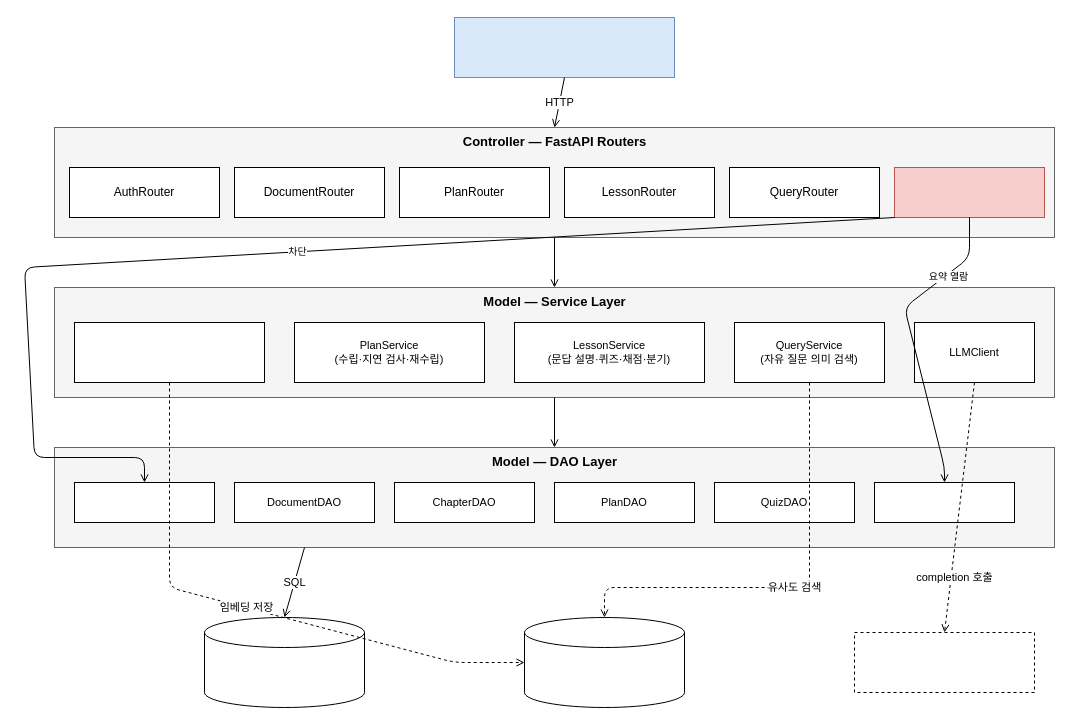
This 1072x725 diagram has some shape labels left out. The shapes that lost their labels are listed below. From the top down, each one's centre as x and y in pixels, then its label:
At point 564,47: "웹 클라이언트 (View)".
At point 969,192: "AdminRouter".
At point 169,352: "DocumentService (업로드·챕터 분할·임베딩)".
At point 144,502: "UserDAO".
At point 944,502: "SessionDAO".
At point 284,662: "RDB".
At point 604,662: "Vector DB".
At point 944,662: "External LLM API".
